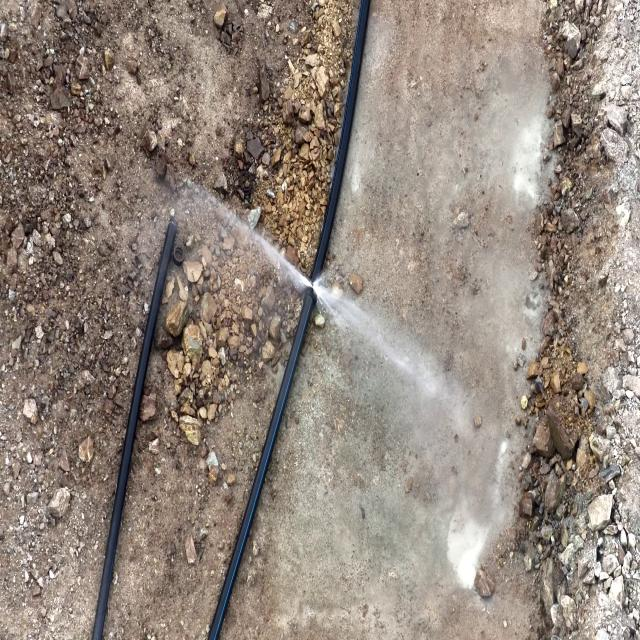leak: (200, 184, 372, 327)
